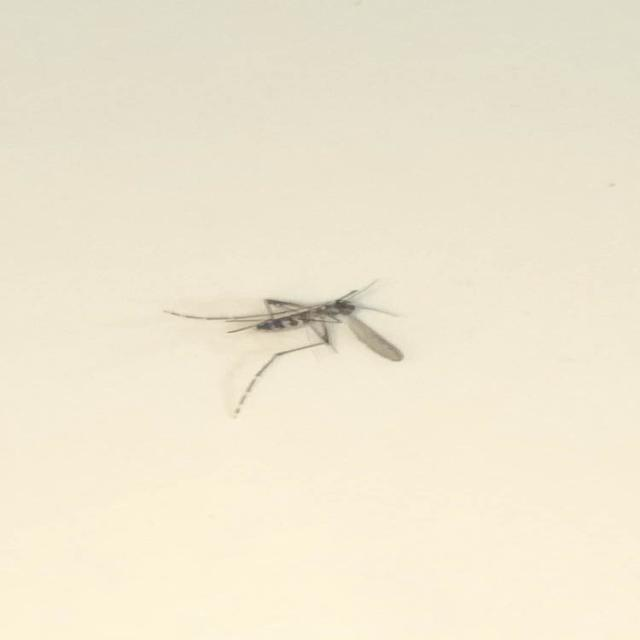albopictus: (163, 272, 415, 418)
